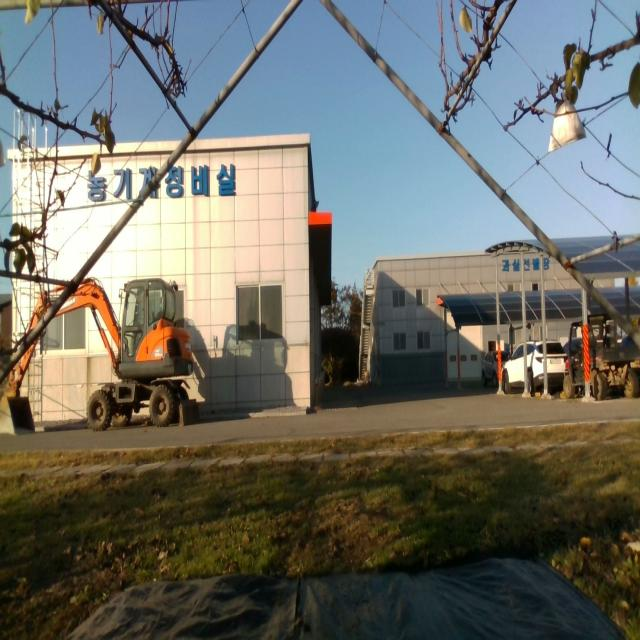pearbags: (546, 94, 585, 158)
